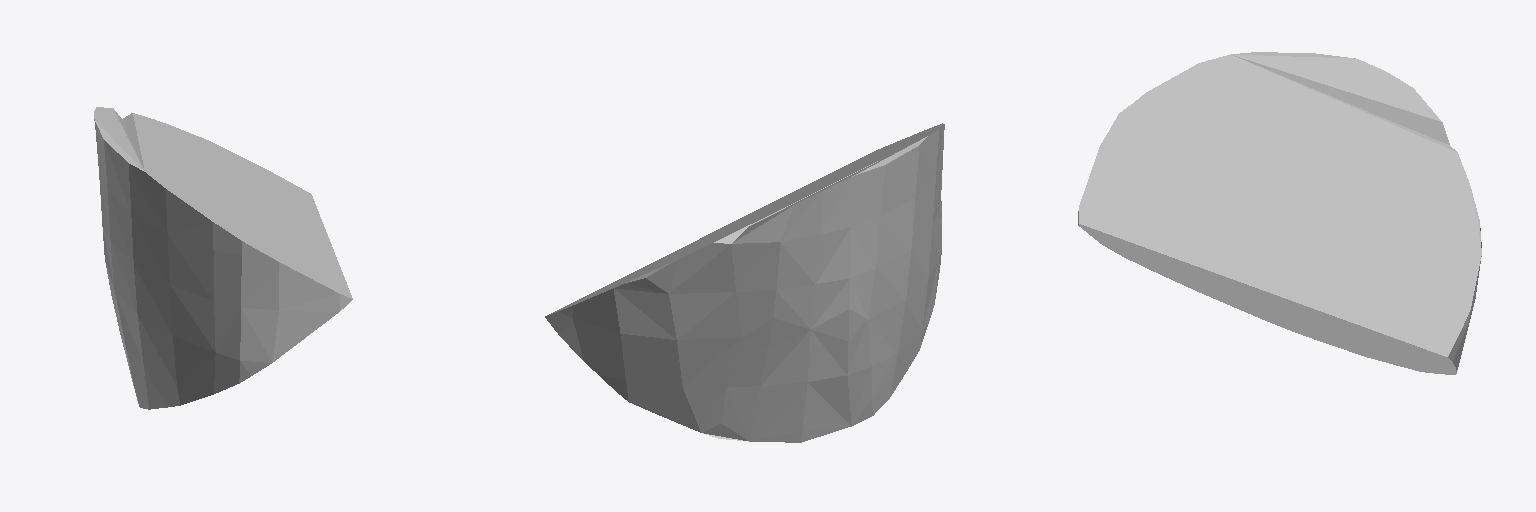
Rendered from low_cell_101.obj.
The picture shows the model from 3 angles: view 1: azimuth 30°, elevation 25°; view 2: azimuth 150°, elevation 25°; view 3: azimuth 270°, elevation 25°; orthographic projection.
Visible parts, largest first — view 1: low_cell.101_low_cell.102; view 2: low_cell.101_low_cell.102; view 3: low_cell.101_low_cell.102.
Part boxes in pixels (left/top/right/bottom): low_cell.101_low_cell.102: left=94, top=107, right=352, bottom=409; low_cell.101_low_cell.102: left=545, top=123, right=944, bottom=442; low_cell.101_low_cell.102: left=1078, top=52, right=1481, bottom=374.
Size of the model in its own units: 0.1115 by 0.105 by 0.1398.